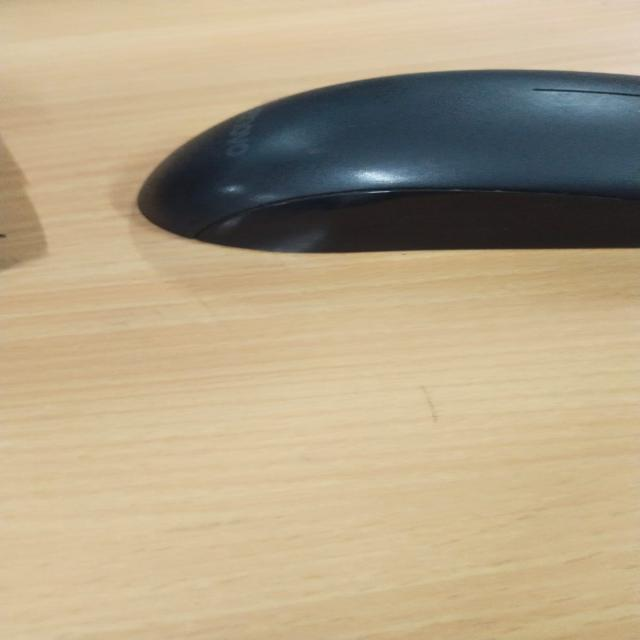mouse: (129, 44, 632, 284)
